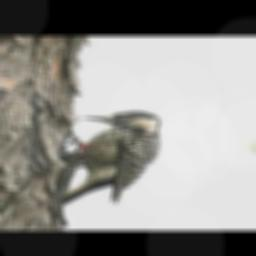Woodpecker: (54, 111, 162, 206)
